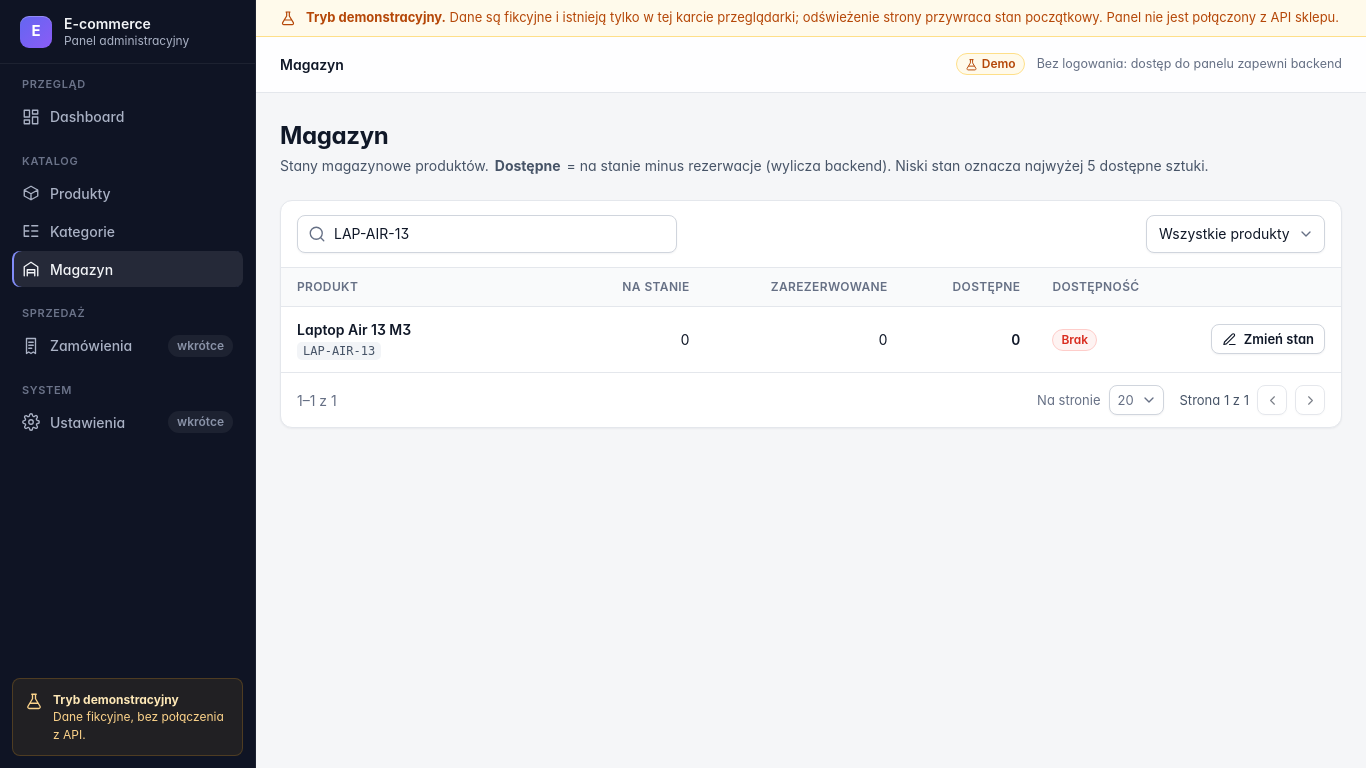
Test: InventoryPage › edits the quantity on hand inline
Expected: the text "Brak" is shown, [1052,329,1097,351]
Click the button with aria-label "Zmień stan: Laptop Air 13 M3" at coordinates (1268, 339), box [1211,324,1325,354]
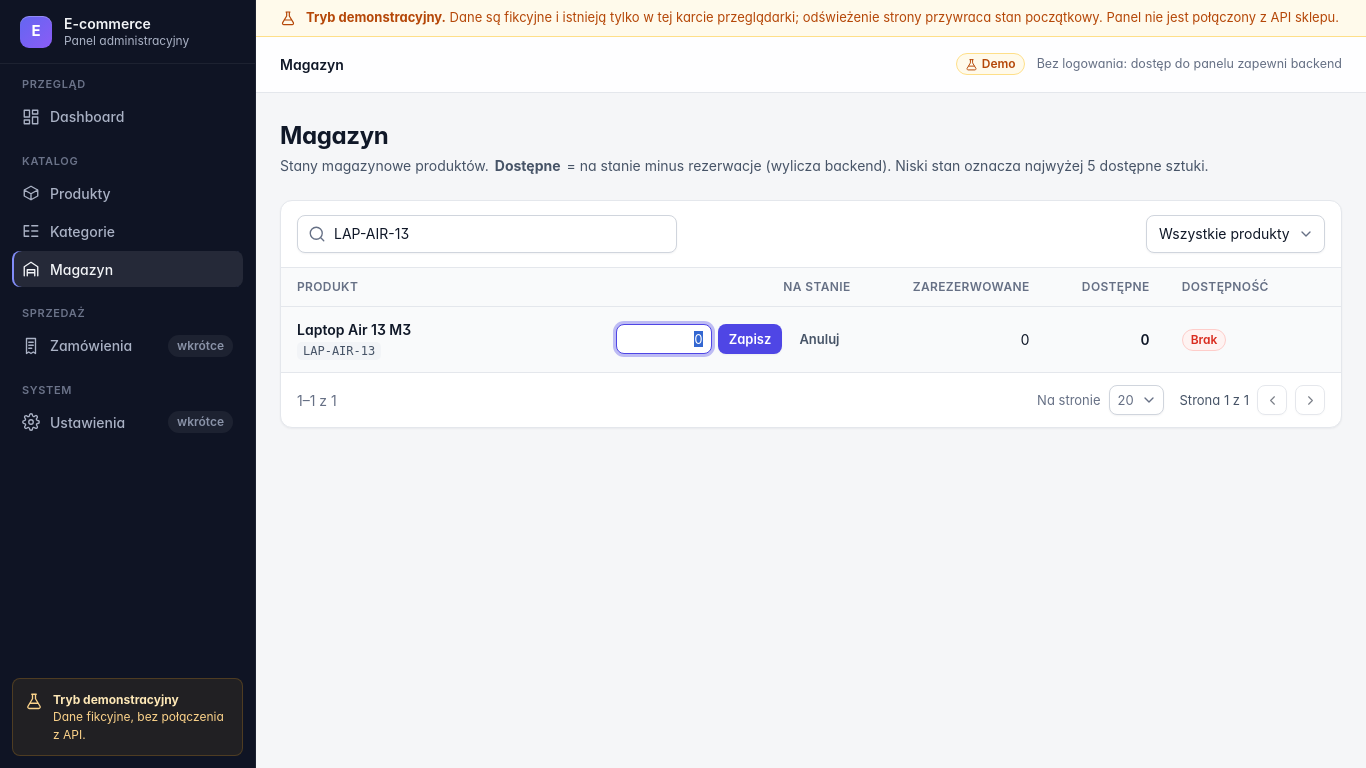
Replace the text in the field named "Stan na magazynie: Laptop Air 13 M3" with "25" at coordinates (664, 339), box [616,324,712,354]
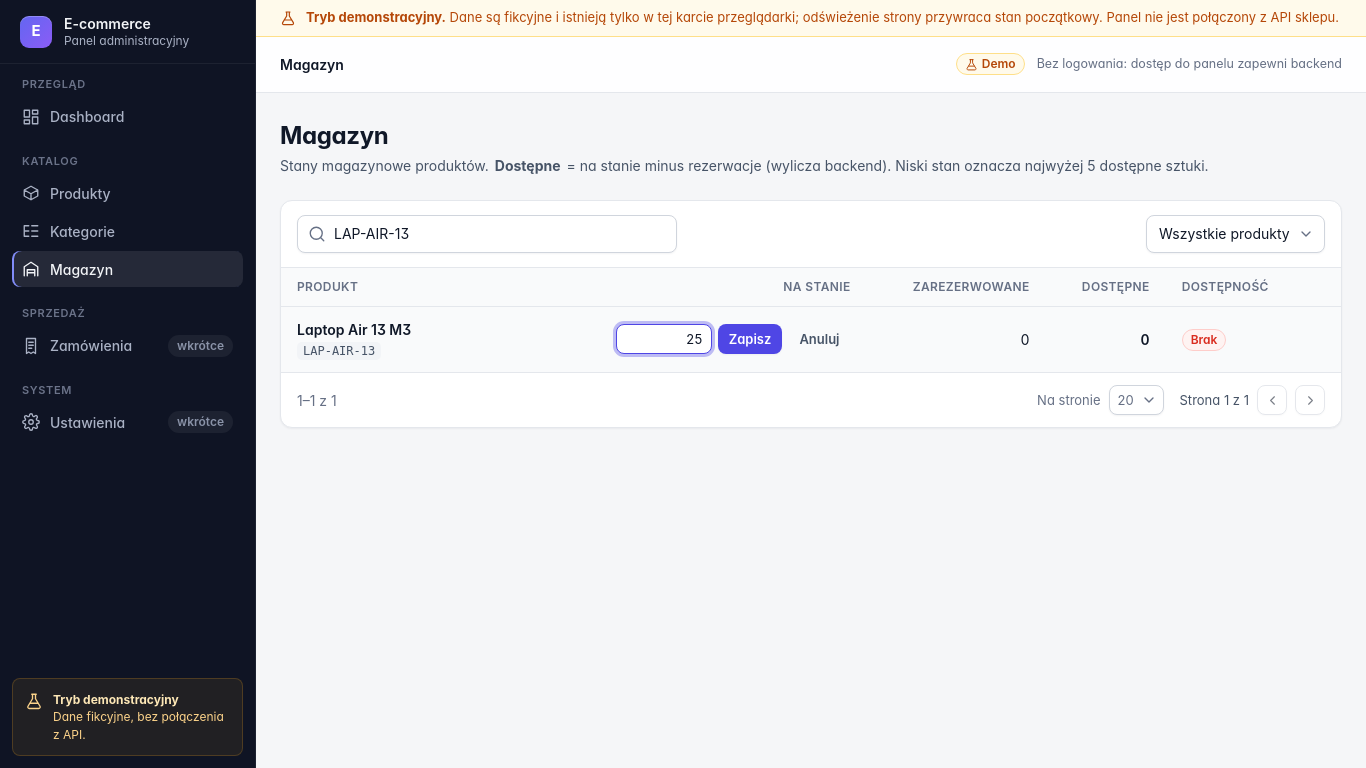
Click the button "Zapisz" at coordinates (750, 339), box [718,324,782,354]
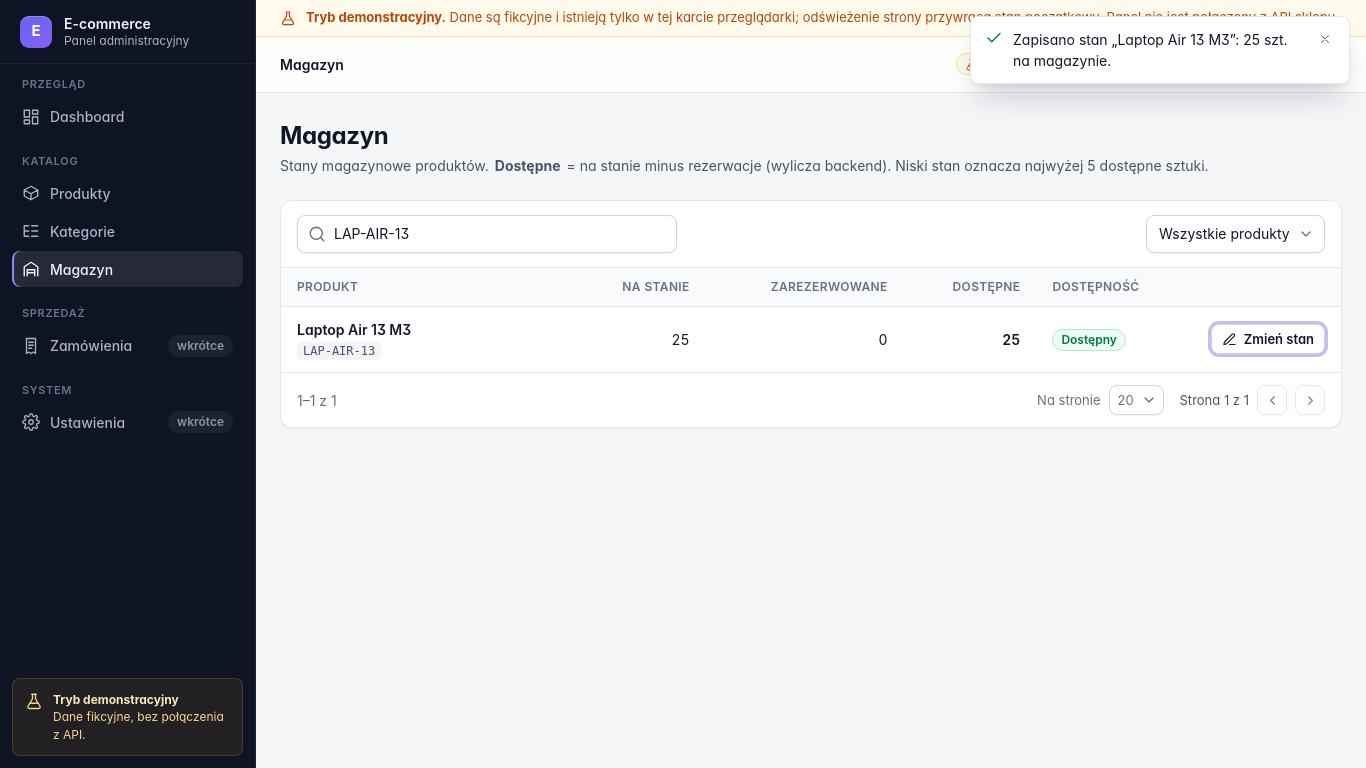
Expected: the text "25" is shown 2 times, [574,306,706,372]; [904,306,1036,372]
Now the text "Dostępny" is shown, box [1052,329,1126,351]
